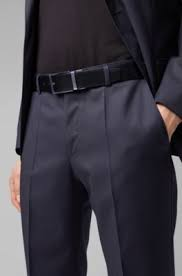F_belt: (27, 54, 158, 105)
F_dress pants: (13, 77, 176, 276)
